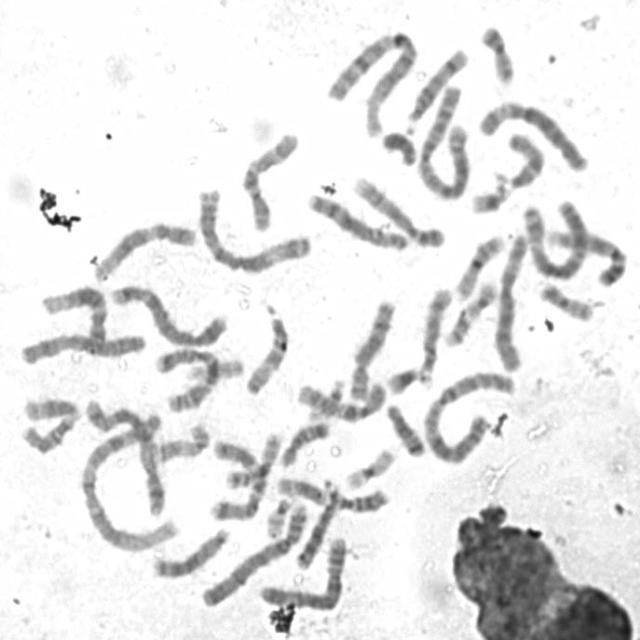A1: (77, 400, 176, 554), (322, 24, 424, 137)
A2: (421, 366, 519, 465), (412, 80, 473, 200)
A3: (194, 182, 314, 275), (519, 195, 590, 281)
B4: (199, 498, 311, 608), (256, 531, 350, 611)
B5: (80, 396, 168, 518), (107, 278, 231, 349)
C10: (236, 125, 302, 235), (294, 375, 389, 424)
C11: (274, 471, 391, 513), (16, 393, 81, 456)
C12: (90, 215, 202, 282), (35, 280, 109, 356)
C6: (474, 94, 590, 173), (490, 226, 531, 374)
C7: (206, 434, 269, 523), (152, 343, 222, 415)
C8: (304, 188, 412, 252), (343, 293, 399, 404)
C9: (349, 172, 448, 248), (543, 225, 629, 288)
D13: (292, 479, 344, 571), (150, 523, 234, 579)
D14: (398, 41, 469, 127), (414, 281, 454, 389)
D15: (240, 307, 292, 397), (502, 127, 548, 191)
E16: (221, 425, 286, 490), (452, 229, 508, 301)
E17: (440, 275, 500, 348), (151, 417, 211, 464)
E18: (276, 416, 334, 468), (382, 398, 428, 458)
F19: (340, 442, 399, 492), (183, 352, 247, 383)
F20: (475, 18, 518, 86), (535, 277, 595, 323)
G21: (467, 172, 511, 216), (383, 359, 430, 396)
G22: (304, 374, 348, 422), (263, 490, 295, 540)
X: (17, 327, 148, 367)
Y: (378, 125, 418, 167)
